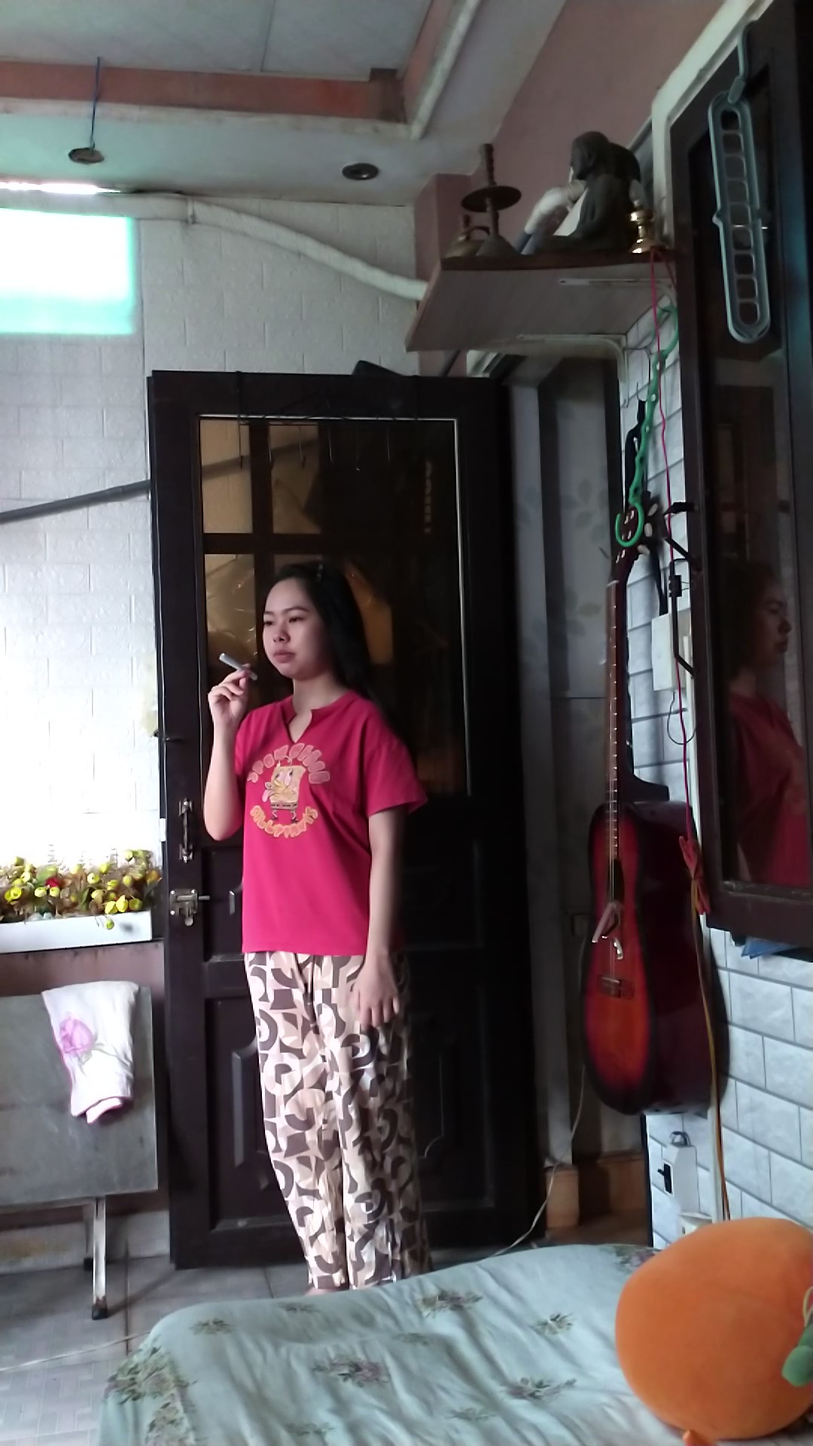cigarette: (216, 649, 245, 672)
person: (198, 537, 426, 1295)
